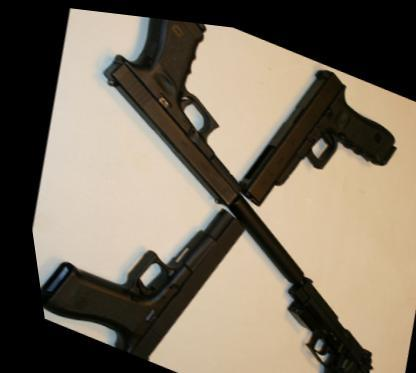pistol: (15, 137, 264, 371), (73, 7, 289, 209), (216, 29, 415, 248), (236, 251, 392, 371)
